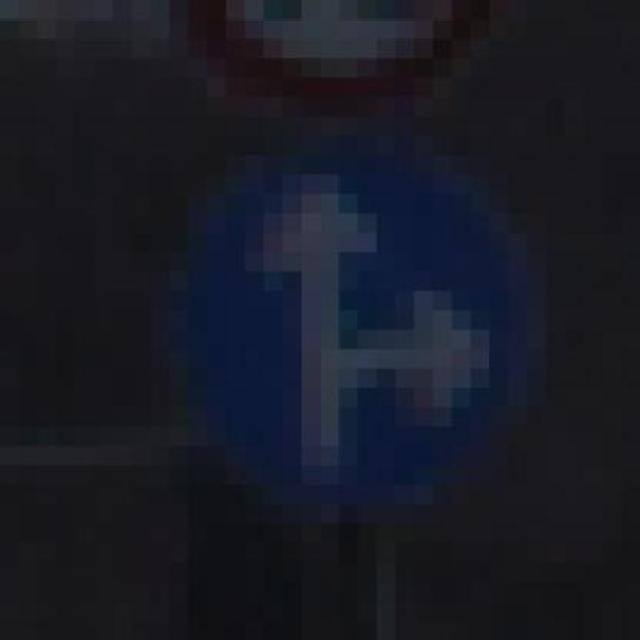Go Straight or Turn Right: (127, 145, 579, 552)
